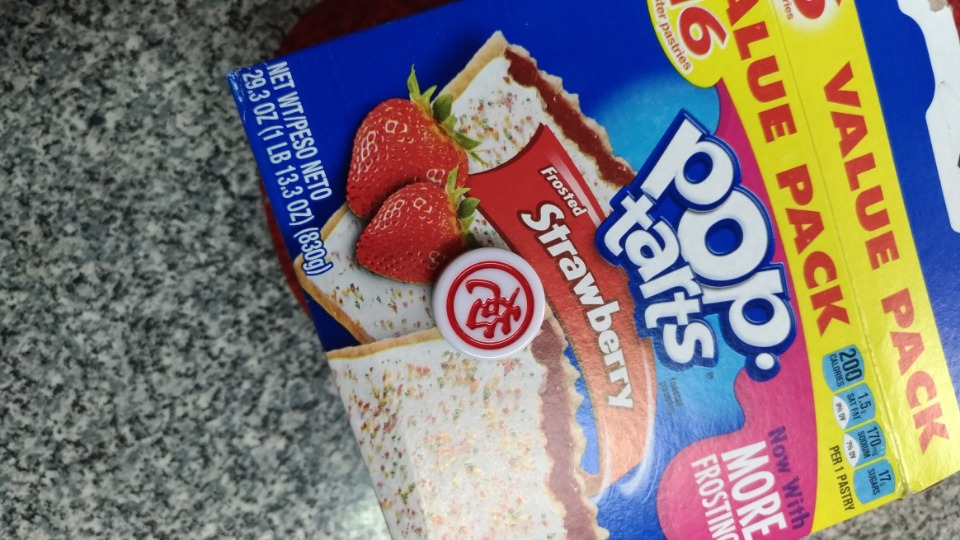r-cannon: (411, 236, 574, 382)
